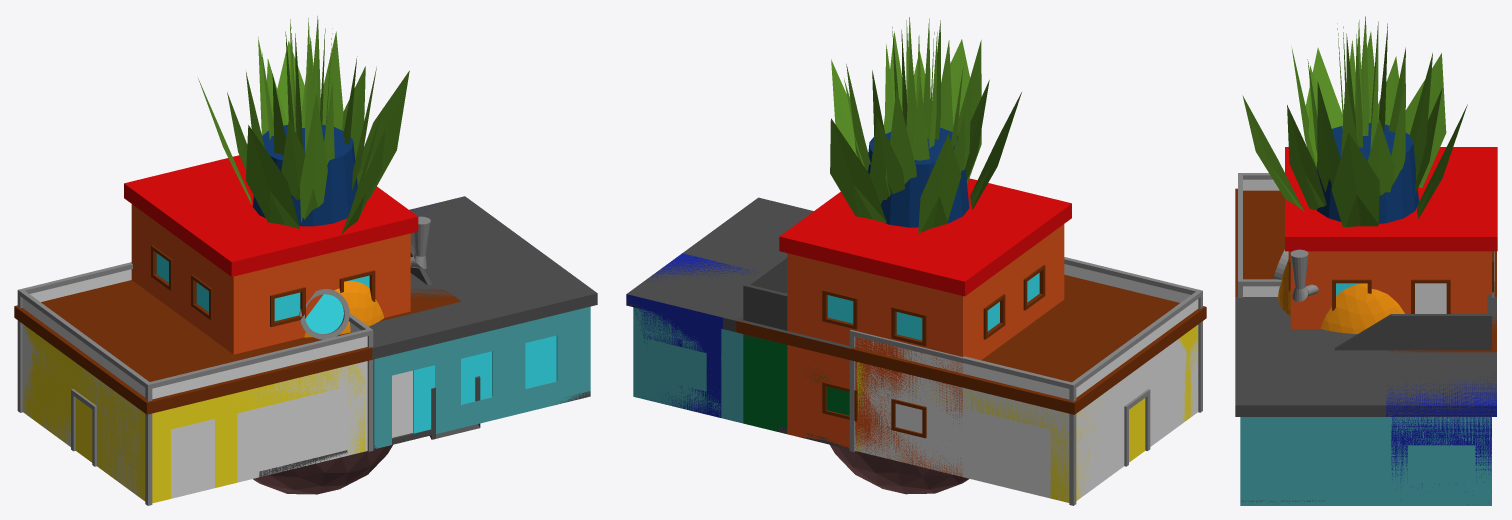
The model's file is buildings_variants.fbx.
3 renders of one model, left to right at view 1: azimuth 30°, elevation 25°; view 2: azimuth 150°, elevation 25°; view 3: azimuth 270°, elevation 25°, orthographic.
Parts seen in each view (by area): view 1: Building_mesh.002, Building_mesh.001, Building_mesh.004, Building_extra_mesh.001, Building_extra_mesh.003, Building_extra_mesh.002, Building_mesh.003, Trigger.002, Door.002; view 2: Building_mesh.001, Building_mesh.004, Building_mesh.002, Building_extra_mesh.001, Building_mesh.003, Building_extra_mesh.002, Building_extra_mesh.003; view 3: Building_mesh.002, Building_mesh.001, Building_extra_mesh.001, Building_mesh.004, Building_extra_mesh.003, Trigger.001, Building_mesh.003.
Part boxes in pixels (x1=…): Building_mesh.002: x1=14, y1=196, x2=597, y2=503; Building_mesh.001: x1=124, y1=155, x2=480, y2=439; Building_mesh.004: x1=17, y1=204, x2=590, y2=505; Building_extra_mesh.001: x1=198, y1=16, x2=430, y2=339; Building_extra_mesh.003: x1=252, y1=124, x2=357, y2=226; Building_extra_mesh.002: x1=253, y1=445, x2=392, y2=494; Building_mesh.003: x1=184, y1=288, x2=461, y2=477; Trigger.002: x1=392, y1=370, x2=412, y2=437; Door.002: x1=413, y1=365, x2=435, y2=433; Building_mesh.001: x1=743, y1=178, x2=1071, y2=476; Building_mesh.004: x1=626, y1=253, x2=1202, y2=505; Building_mesh.002: x1=626, y1=197, x2=1206, y2=502; Building_extra_mesh.001: x1=830, y1=17, x2=1021, y2=233; Building_mesh.003: x1=736, y1=293, x2=1029, y2=431; Building_extra_mesh.002: x1=830, y1=445, x2=969, y2=494; Building_extra_mesh.003: x1=867, y1=127, x2=969, y2=227; Building_mesh.002: x1=1235, y1=188, x2=1496, y2=505; Building_mesh.001: x1=1285, y1=147, x2=1497, y2=350; Building_extra_mesh.001: x1=1242, y1=16, x2=1467, y2=333; Building_mesh.004: x1=1238, y1=173, x2=1496, y2=503; Building_extra_mesh.003: x1=1316, y1=123, x2=1418, y2=223; Trigger.001: x1=1415, y1=283, x2=1446, y2=313; Building_mesh.003: x1=1372, y1=251, x2=1496, y2=352.
Size of what is drawn, in the model's own units: 2040 by 2004 by 1042.
